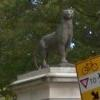Statue: (38, 3, 72, 68)
